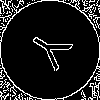Y: (25, 25, 82, 78)
